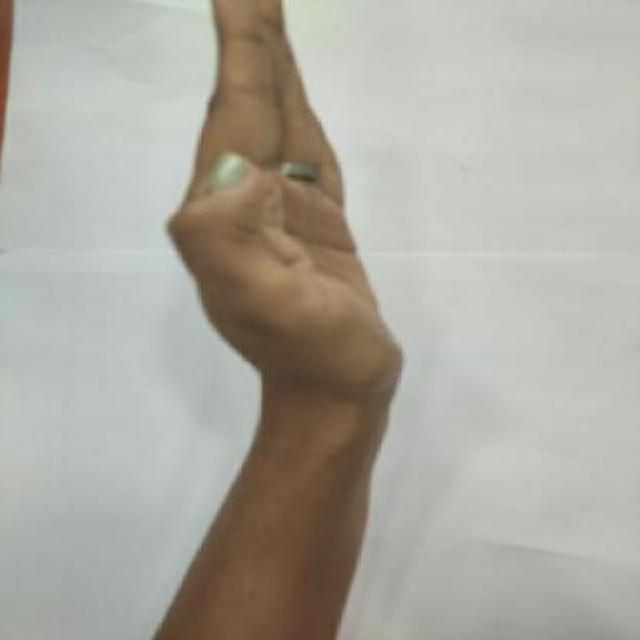without_gloves: (142, 4, 460, 544)
